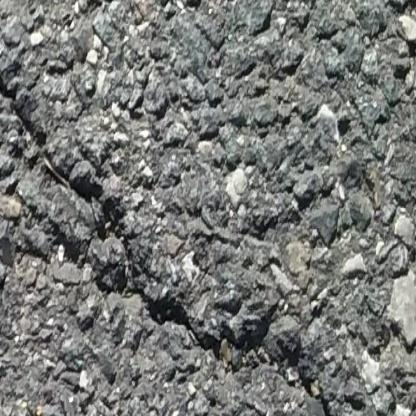Cracks: (36, 145, 350, 416), (0, 75, 41, 138)
